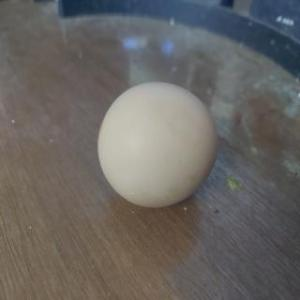egg: (96, 76, 219, 212)
